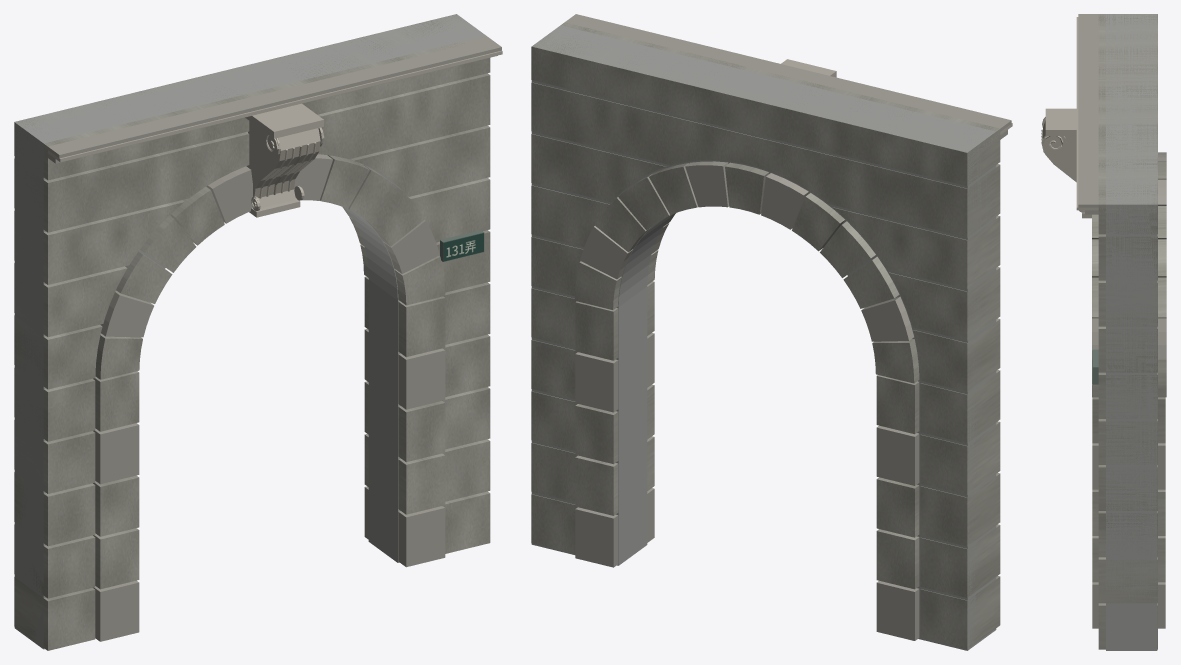
Rendered from guangdong-131-scroll-keystone-far.glb.
3 views of the same model, side by side, from view 1: azimuth 30°, elevation 25°; view 2: azimuth 150°, elevation 25°; view 3: azimuth 270°, elevation 25° (orthographic). The views are drawn at different scales.
Parts seen in each view (by area): view 1: 广东路131弄券门与卷形拱心石; view 2: 广东路131弄券门与卷形拱心石; view 3: 广东路131弄券门与卷形拱心石.
Part boxes in pixels (x1,y1,x2,y2): 广东路131弄券门与卷形拱心石: (14,14,502,650); 广东路131弄券门与卷形拱心石: (531,14,1012,650); 广东路131弄券门与卷形拱心石: (1041,14,1166,650).
Bounding box in the file's own units: 3.88 × 4.24 × 1.08.
8 materials, 2 textured.
